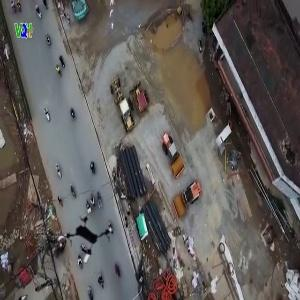drone: (57, 212, 115, 270)
